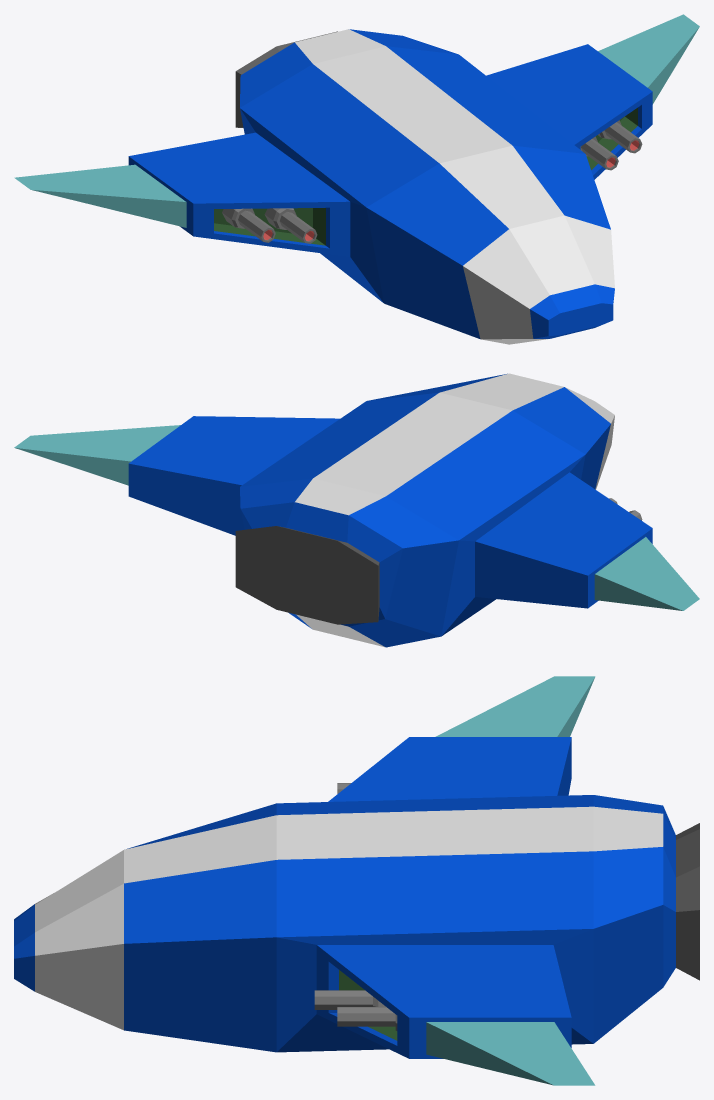
The model's file is ship.glb.
The picture shows the model from 3 angles, top to bottom: view 1: azimuth 30°, elevation 25°; view 2: azimuth 150°, elevation 25°; view 3: azimuth 270°, elevation 25°; orthographic projection. The views are drawn at different scales.
Visible parts, largest first — view 1: spaceship_player; view 2: spaceship_player; view 3: spaceship_player.
Part boxes in pixels (left/top/right/bottom): spaceship_player: left=14, top=14, right=699, bottom=344; spaceship_player: left=14, top=373, right=699, bottom=647; spaceship_player: left=14, top=676, right=699, bottom=1085.
Bounding box in the file's own units: 2.96 × 0.6391 × 2.1.
